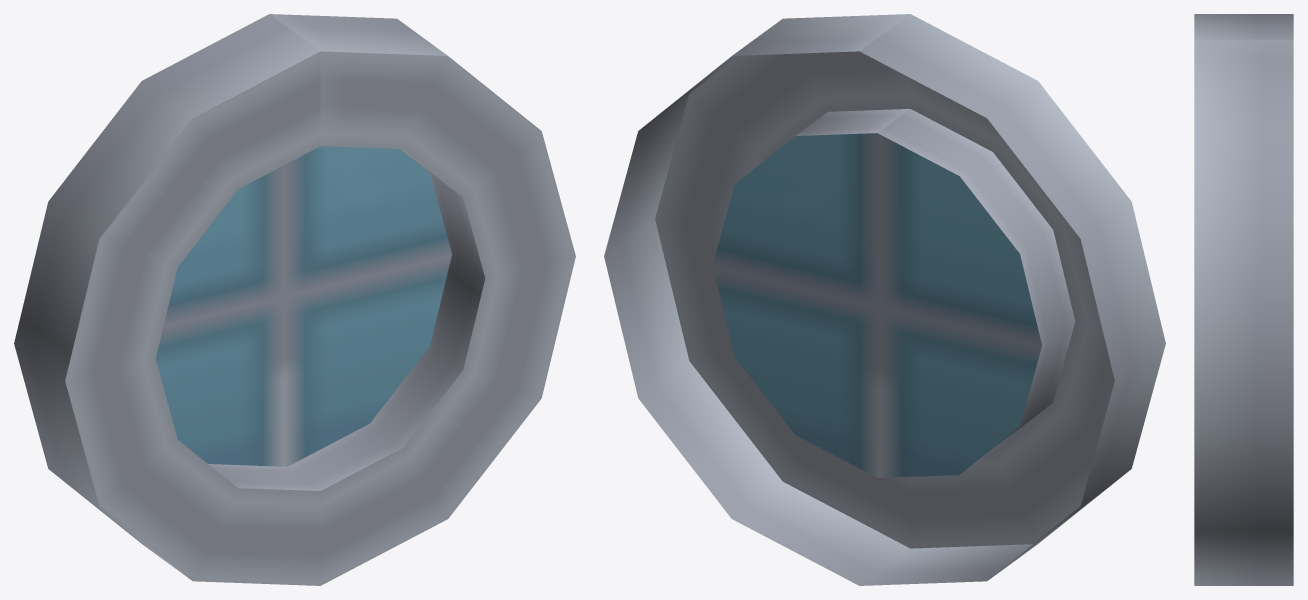
File: window_curch_v3_001_ncl1_1.fbx
3 views of the same model, side by side, from view 1: azimuth 30°, elevation 25°; view 2: azimuth 150°, elevation 25°; view 3: azimuth 270°, elevation 25° (orthographic). The views are drawn at different scales.
Visible parts, largest first — view 1: window_curch_v3_001; view 2: window_curch_v3_001; view 3: window_curch_v3_001.
Boxes of the visible parts, <box> form: window_curch_v3_001: <box>14,14,575,585</box>; window_curch_v3_001: <box>604,14,1165,585</box>; window_curch_v3_001: <box>1194,14,1293,585</box>.
Bounding box in the file's own units: 98.45 × 98.45 × 17.05.
